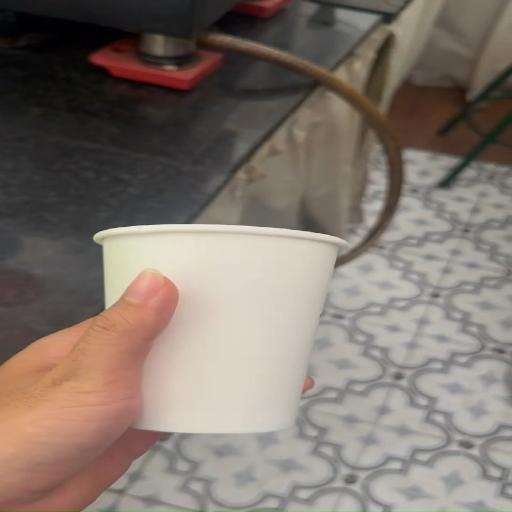Ly_giay: (94, 224, 345, 433)
